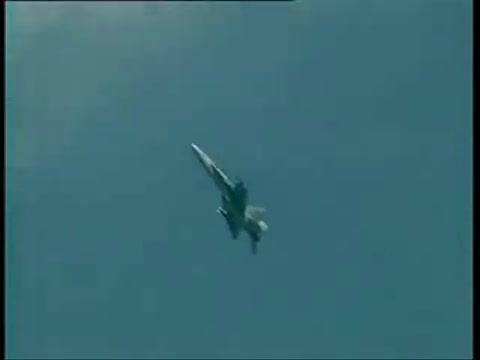aeroplane: (190, 142, 269, 254)
